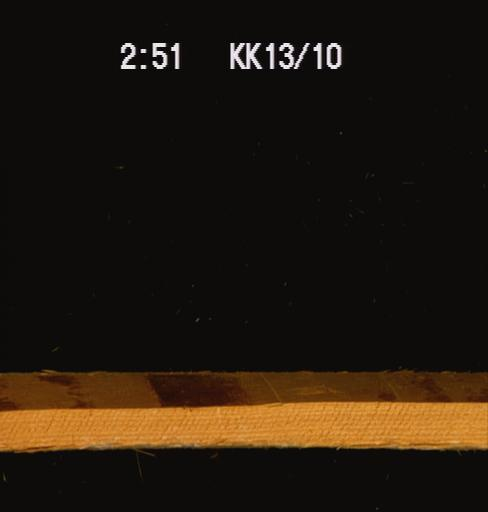wave: (0, 371, 487, 409)
